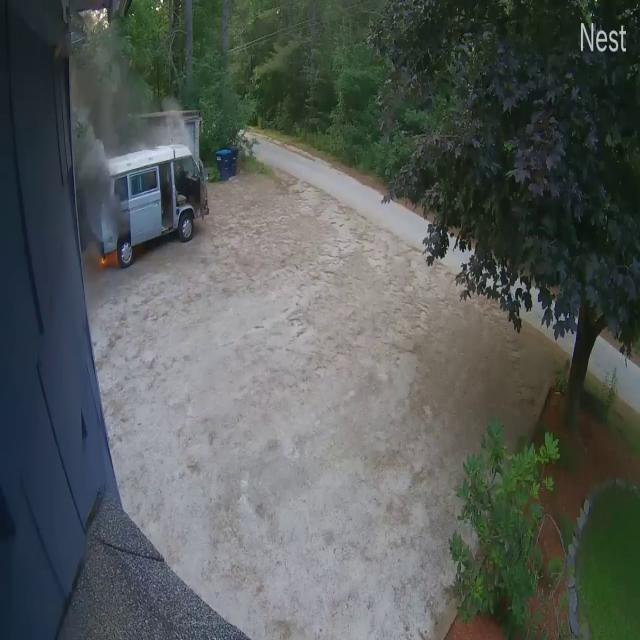Smoke: (72, 12, 124, 232)
